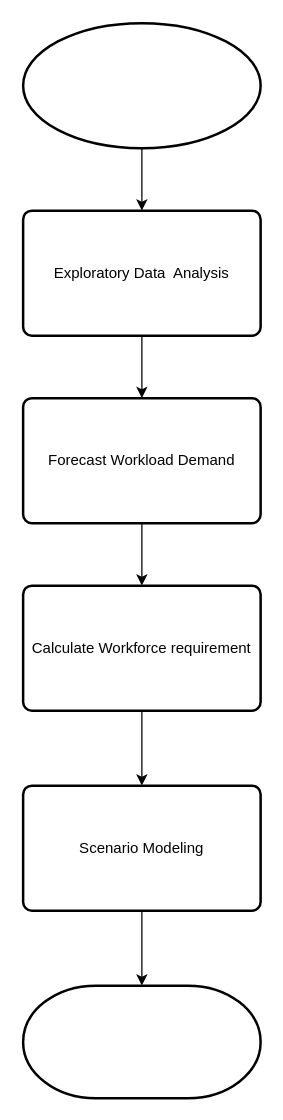
This 283x1120 diagram has some shape labels left out. Here are the shapes that lost their labels. From the top down, the centre of each, then its label:
At [141,85]: "Generate Synthetic Workforce Data".
At [141,1041]: "Business recomendations".
